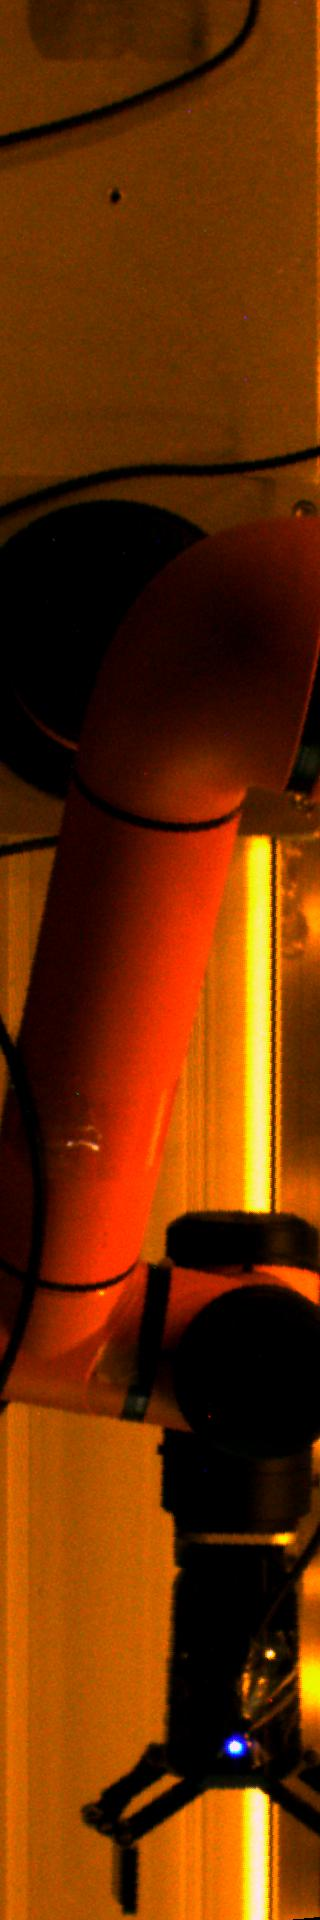keyPoint_1: (219, 1730, 250, 1760)
keyPoint_2: (99, 182, 129, 212)
